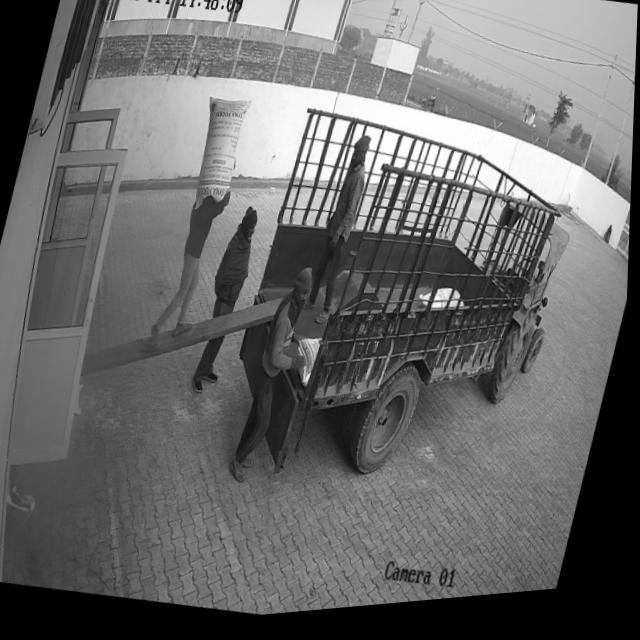sack: (183, 95, 253, 220)
